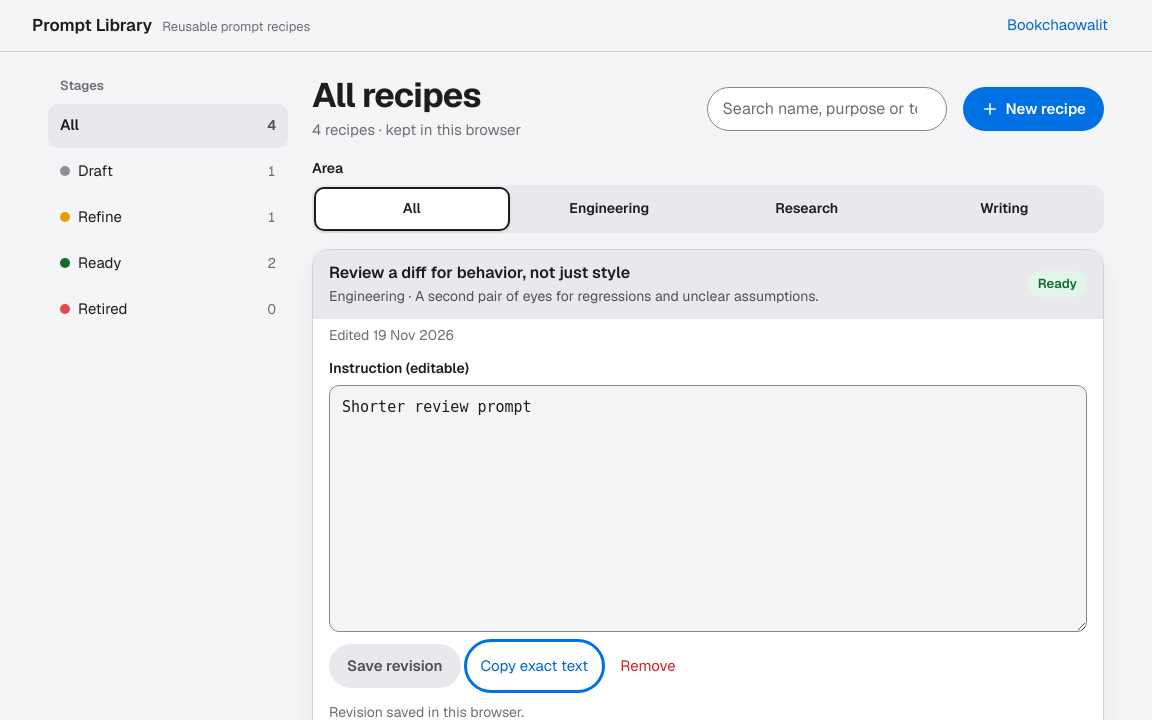
recipe detail › edits, saves, copies, removes with undo and collapses
Earlier steps of the test are not shown.
Later steps or results of the test are not shown.
Expected: the text "Revision saved in this browser." is shown, [329, 703, 524, 719]
Click the button "Copy exact text": {"x": 534, "y": 666} [468, 644, 600, 688]
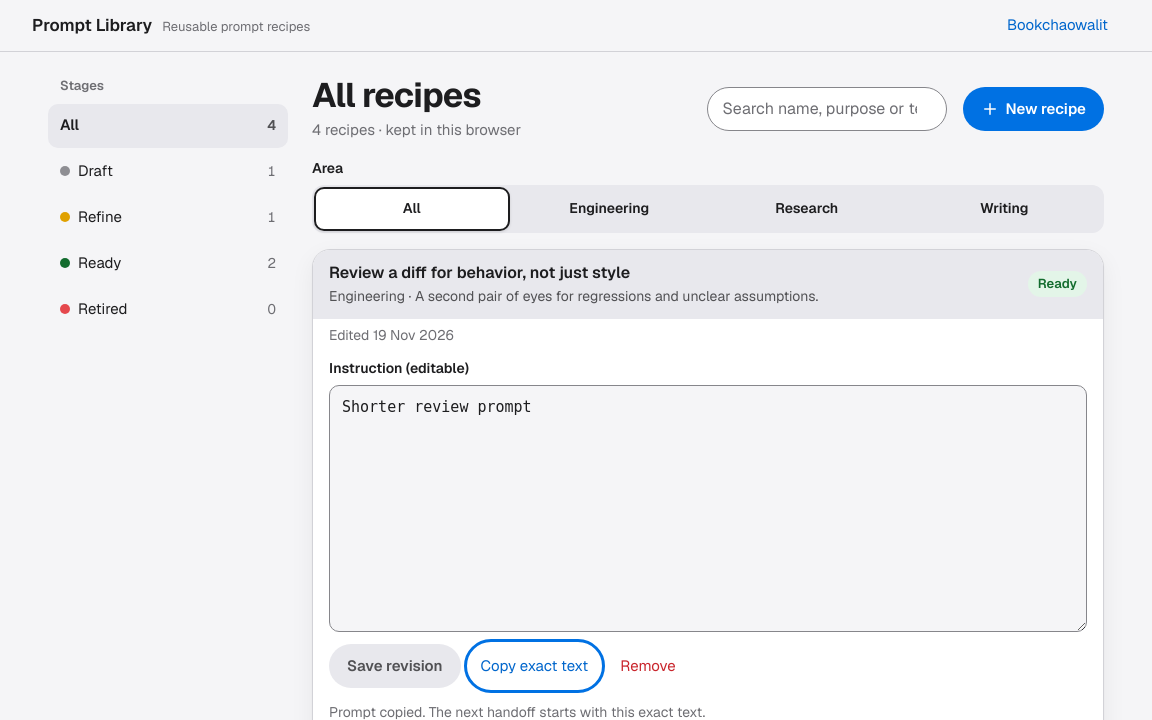
Expected: the text "Prompt copied." is shown, [329, 703, 705, 719]
Click the button "Copy exact text": {"x": 534, "y": 666} [468, 644, 600, 688]
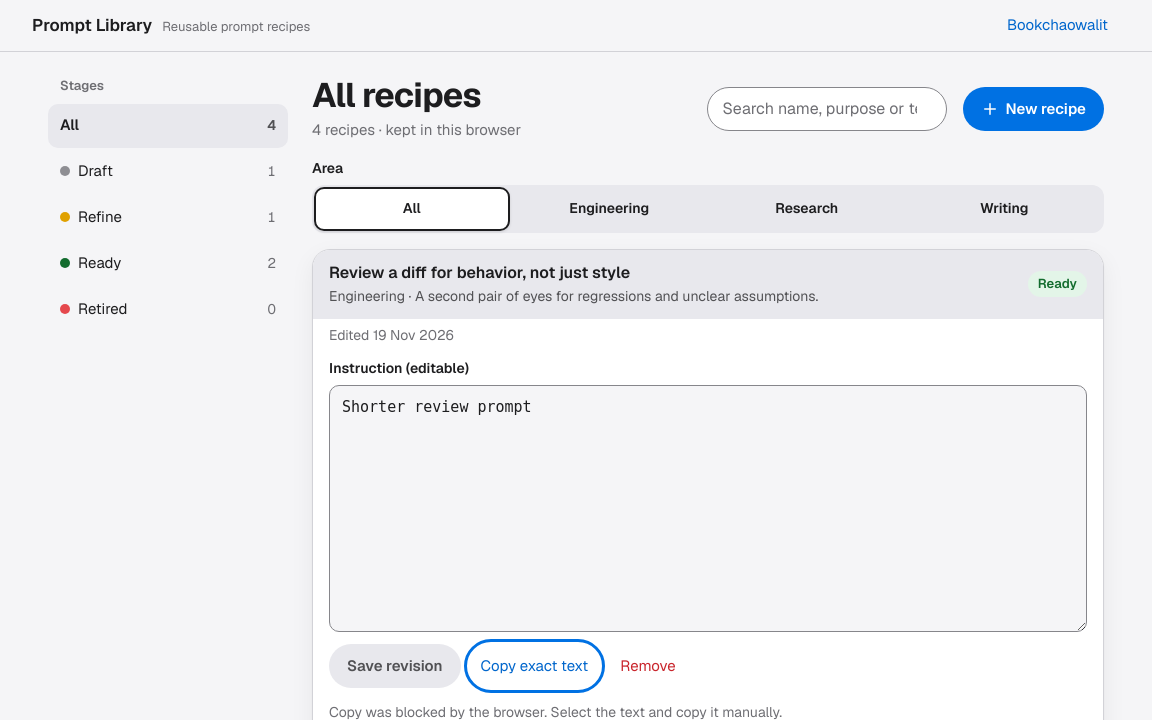
Expected: the text "Copy was blocked" is shown, [329, 703, 782, 719]
Click the button "Remove": {"x": 648, "y": 666} [608, 644, 688, 688]
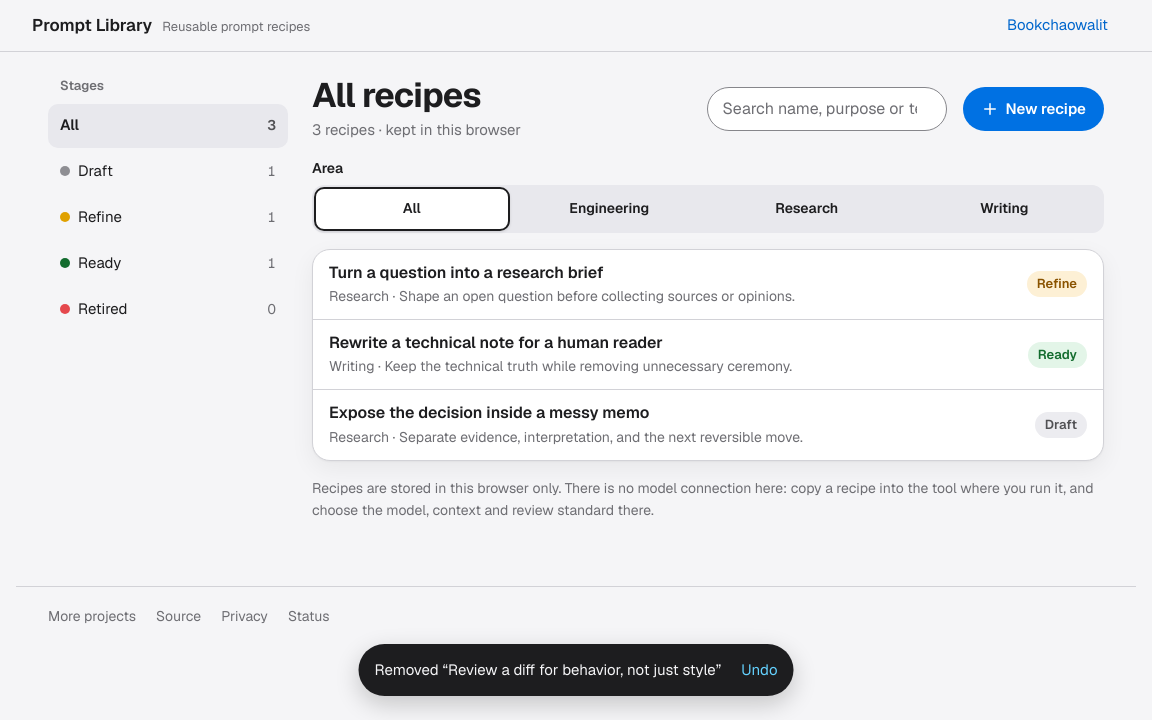
Expected: the element with class "as-toast" shows "Removed", [374, 660, 721, 679]
Click the button "Undo": {"x": 759, "y": 670} [729, 648, 790, 692]
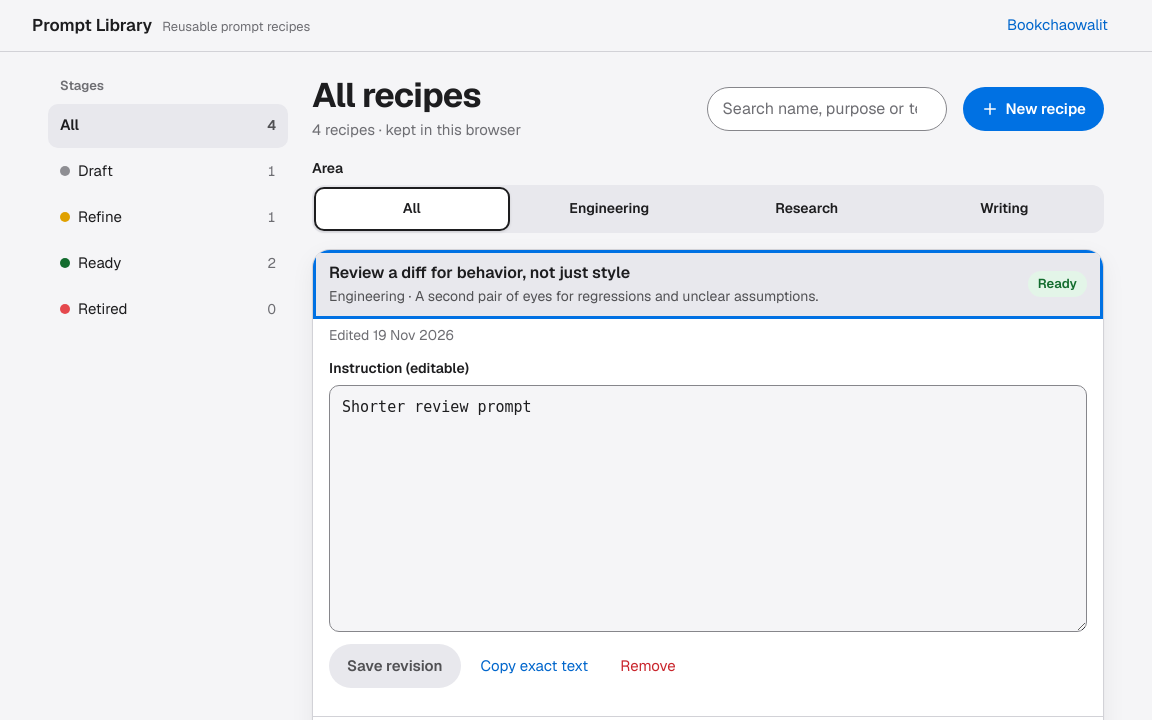
Expected: the text "Review a diff for behavior, not just style" is shown, [329, 262, 630, 283]
Click the button "Remove": {"x": 648, "y": 666} [608, 644, 688, 688]
Wait 7000 ms
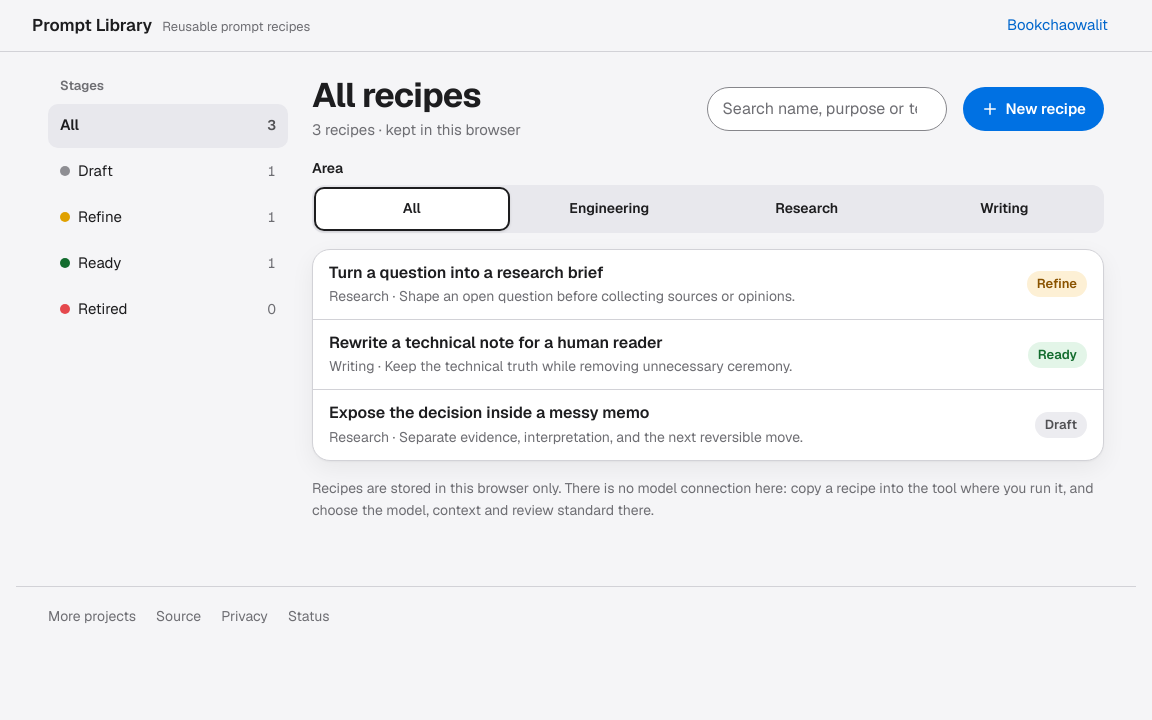
Click the button that starts with "Turn a question into a research brief": {"x": 708, "y": 284} [313, 250, 1103, 319]
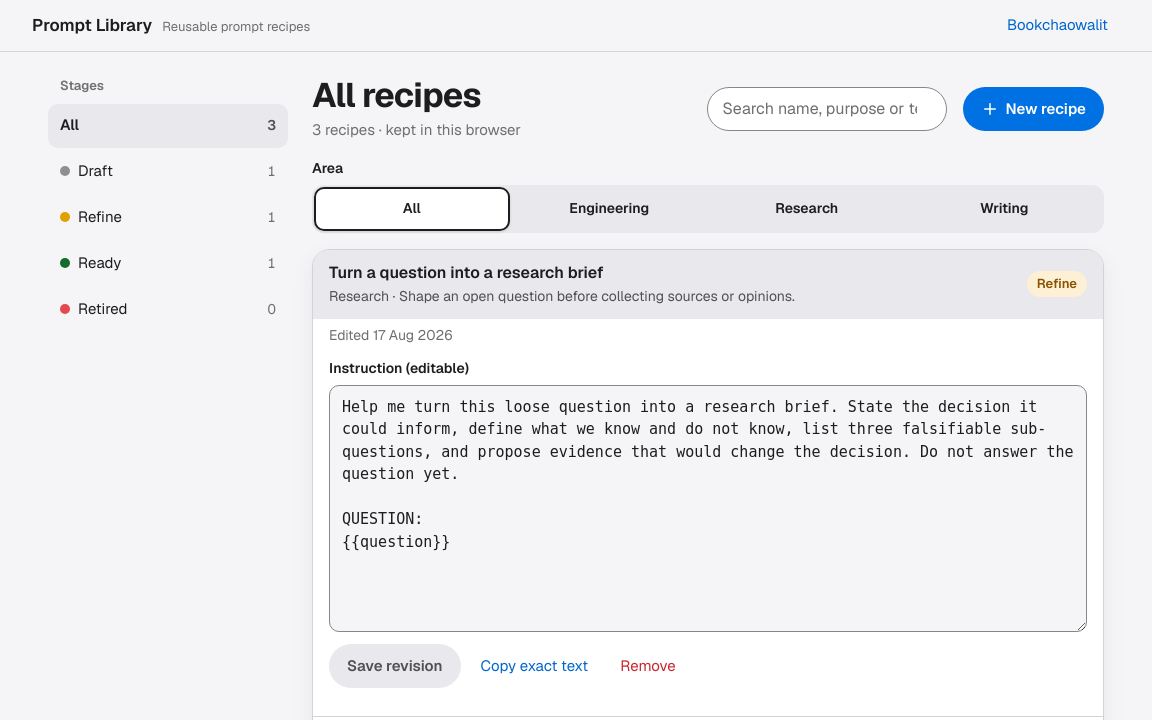
Expected: the element that starts with "Edited" is shown, [313, 319, 1103, 716]
